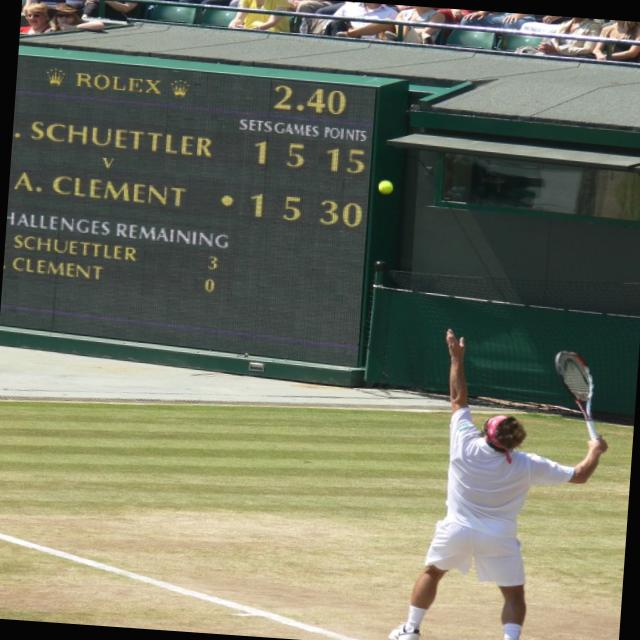Tennis Ball: (375, 180, 390, 193)
